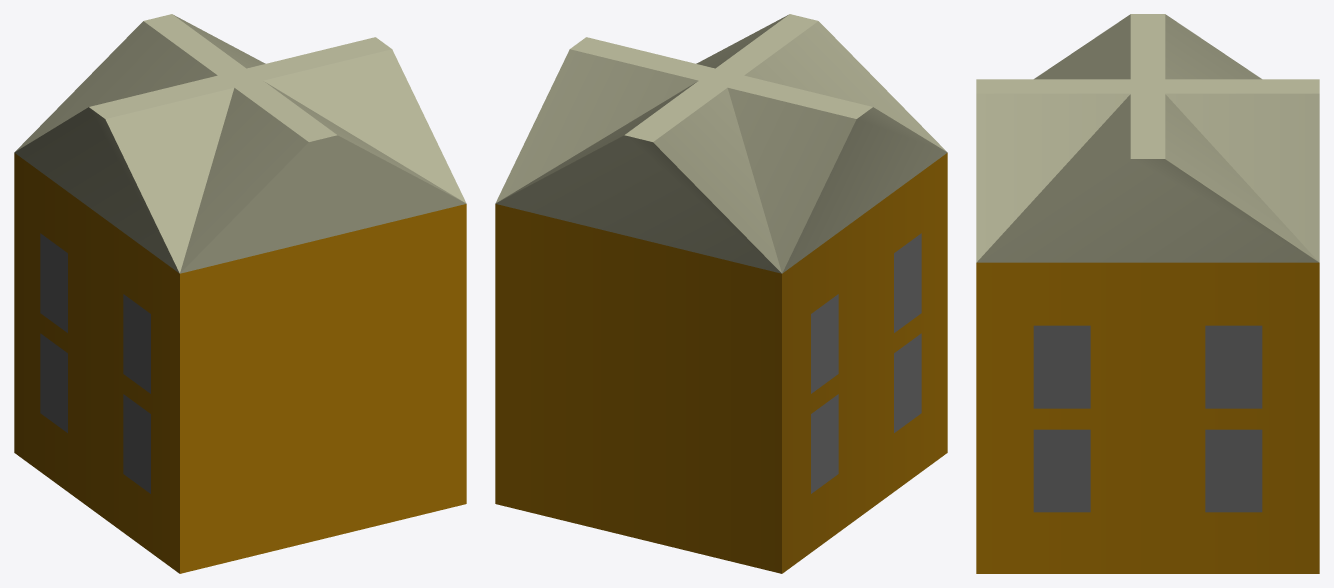
File: building-20-high.glb
3 views of the same model, side by side, from view 1: azimuth 30°, elevation 25°; view 2: azimuth 150°, elevation 25°; view 3: azimuth 270°, elevation 25° (orthographic). The views are drawn at different scales.
Parts seen in each view (by area): view 1: mesh0; view 2: mesh0; view 3: mesh0.
Part boxes in pixels (x1,y1,x2,y2): mesh0: (14,14,466,573); mesh0: (495,14,947,573); mesh0: (976,14,1319,573).
Bounding box in the file's own units: 0.606 × 0.8 × 0.6.
